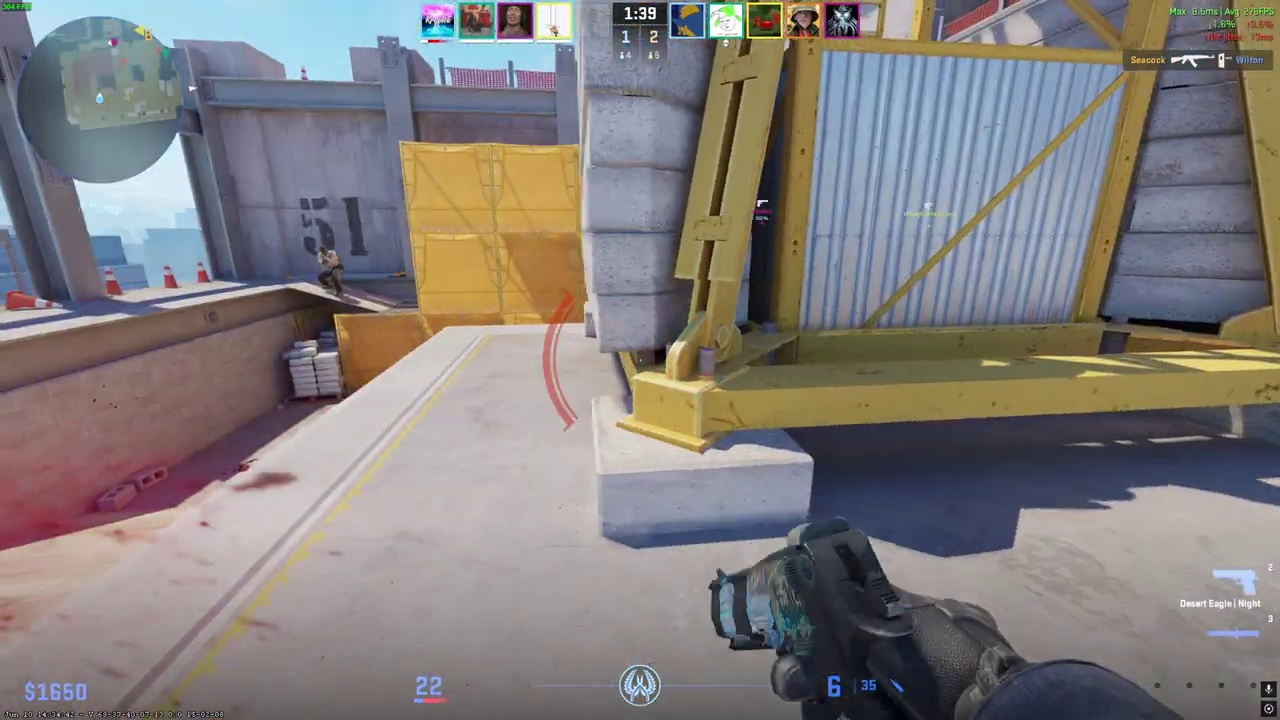Terrorist: (315, 245, 345, 299)
